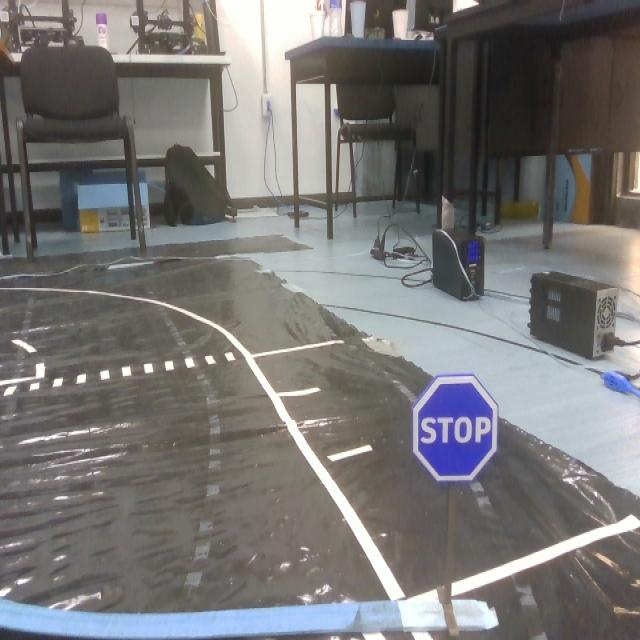no_entry: (408, 374, 486, 490)
